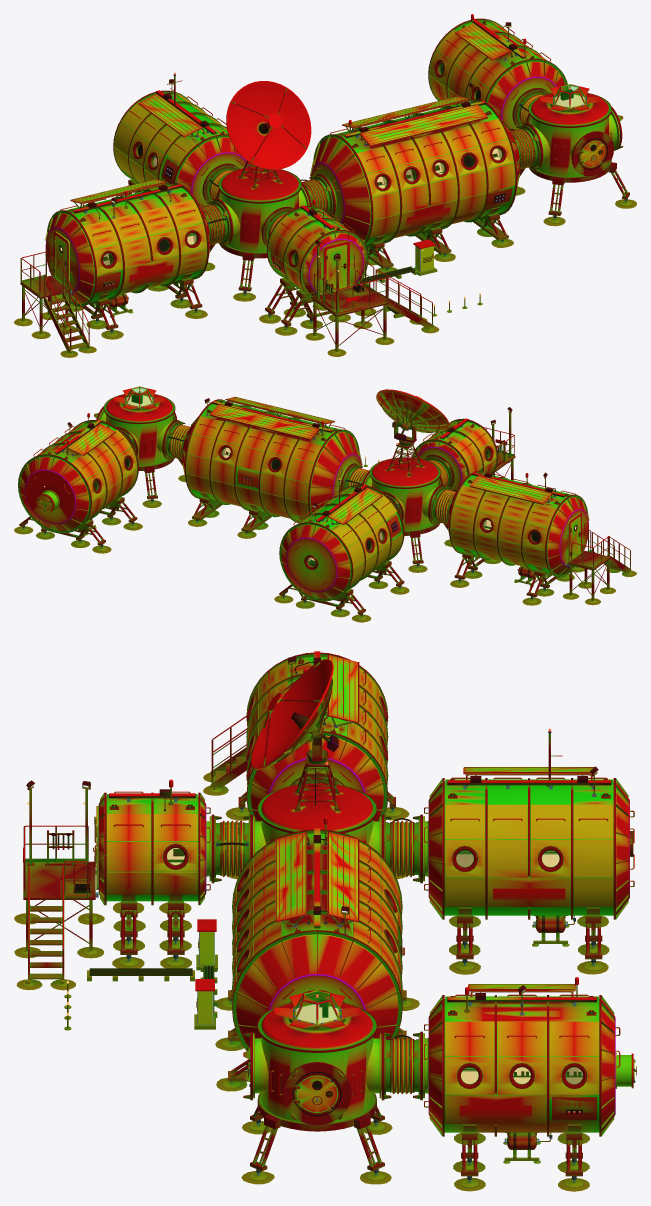
File: home-outpost-lite-v1.glb
3 renders of one model, top to bottom at view 1: azimuth 30°, elevation 25°; view 2: azimuth 150°, elevation 25°; view 3: azimuth 270°, elevation 25°, orthographic. The views are drawn at different scales.
Visible parts, largest first — view 1: static_paint, static_frame, static_steel, dish_el_paint, static_regolith, static_anodized, static_signal, static_fabric, static_foil, static_glass, static_black, static_stencil (+1 smaller); view 2: static_paint, static_steel, static_frame, static_regolith, dish_el_paint, static_anodized, static_signal, static_fabric, dish_el_frame, static_foil, static_glass, static_black; view 3: static_paint, static_steel, static_frame, static_regolith, static_anodized, dish_el_paint, static_fabric, static_signal, static_glass, static_foil, static_black, static_stencil (+2 smaller).
Part boxes in pixels (x1,y1,x2,y2): static_paint: [53, 14, 605, 302]; static_frame: [19, 18, 632, 355]; static_steel: [45, 21, 619, 303]; dish_el_paint: [226, 81, 311, 169]; static_regolith: [14, 186, 636, 357]; static_anodized: [59, 20, 627, 331]; static_signal: [21, 25, 611, 328]; static_fabric: [200, 94, 543, 245]; static_foil: [95, 158, 512, 307]; static_glass: [103, 63, 584, 264]; static_black: [93, 47, 607, 313]; static_stencil: [128, 207, 450, 301]; static_paint: [37, 388, 581, 586]; static_steel: [20, 386, 588, 598]; static_frame: [18, 394, 632, 620]; static_regolith: [14, 474, 636, 622]; dish_el_paint: [376, 389, 449, 432]; static_anodized: [22, 394, 580, 615]; static_signal: [30, 402, 630, 585]; static_fabric: [170, 425, 455, 524]; dish_el_frame: [377, 392, 447, 432]; static_foil: [90, 469, 534, 578]; static_glass: [94, 388, 490, 565]; static_black: [92, 405, 555, 576]; static_paint: [23, 651, 634, 1123]; static_steel: [98, 656, 633, 1142]; static_frame: [21, 652, 636, 1187]; static_regolith: [14, 773, 609, 1191]; static_anodized: [26, 656, 635, 1179]; dish_el_paint: [251, 659, 333, 769]; static_fabric: [221, 820, 412, 1094]; static_signal: [23, 670, 634, 1114]; static_glass: [167, 848, 582, 1083]; static_foil: [397, 915, 596, 1149]; static_black: [74, 661, 582, 1150]; static_stencil: [459, 888, 565, 1116].
Size of the model in its own units: 27.56 by 8.21 by 17.23.
